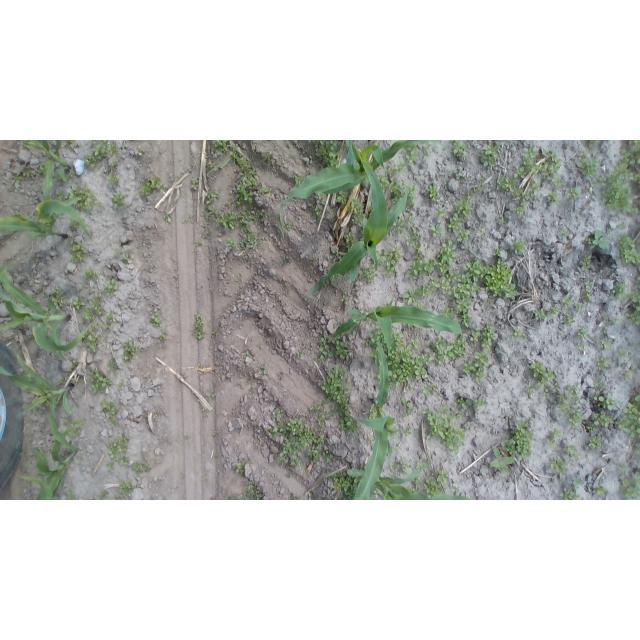Maize: (301, 141, 409, 298), (280, 141, 439, 240), (1, 261, 84, 362), (0, 355, 82, 452), (354, 337, 399, 500), (333, 298, 464, 353), (347, 460, 476, 500), (18, 420, 80, 501), (0, 197, 94, 239), (21, 140, 72, 201), (68, 488, 76, 501)
Weeds: (266, 417, 322, 468), (387, 333, 429, 388), (323, 366, 358, 431), (495, 175, 541, 218), (425, 406, 467, 450), (603, 161, 637, 215), (230, 152, 261, 206), (552, 381, 586, 427), (455, 263, 482, 313), (504, 421, 535, 460), (484, 260, 513, 297), (217, 210, 266, 230), (84, 140, 117, 169), (618, 396, 640, 436), (400, 251, 428, 282), (513, 148, 539, 179), (391, 183, 418, 210), (437, 240, 458, 273), (542, 427, 567, 453), (315, 140, 340, 166), (238, 227, 259, 257), (530, 361, 555, 385), (491, 448, 514, 473), (620, 235, 639, 265), (542, 151, 563, 178), (90, 369, 112, 394), (101, 398, 120, 426), (190, 311, 206, 342), (531, 305, 561, 321), (447, 336, 468, 358), (64, 417, 84, 440), (386, 246, 402, 274), (397, 192, 414, 217), (305, 200, 322, 225), (76, 189, 97, 209), (329, 473, 351, 492), (454, 194, 473, 216), (622, 475, 639, 499), (595, 393, 619, 410), (591, 230, 610, 250), (107, 437, 129, 454), (432, 337, 446, 363), (562, 444, 580, 464), (481, 148, 499, 167), (581, 159, 600, 177), (550, 457, 570, 474), (481, 328, 497, 349), (241, 483, 262, 499), (449, 140, 467, 158), (141, 178, 160, 195), (440, 273, 457, 292), (594, 411, 614, 427), (448, 213, 463, 234), (85, 333, 98, 357), (102, 307, 115, 330), (353, 198, 364, 225), (91, 294, 105, 315), (424, 478, 442, 494), (405, 229, 423, 245), (113, 248, 131, 264), (335, 339, 349, 359), (107, 161, 119, 184), (124, 340, 137, 361), (319, 337, 332, 358), (594, 336, 611, 352), (389, 162, 406, 178), (233, 459, 247, 478), (401, 399, 415, 418), (613, 280, 627, 299), (421, 382, 437, 398), (474, 351, 490, 367), (594, 357, 611, 372), (455, 395, 472, 410), (54, 186, 72, 200), (624, 148, 638, 166), (402, 289, 418, 304), (428, 183, 440, 203), (363, 266, 377, 283), (367, 332, 384, 346), (344, 231, 356, 250), (201, 207, 216, 222), (524, 383, 540, 397), (435, 467, 449, 483), (457, 228, 471, 244), (393, 219, 408, 233), (458, 315, 473, 329), (561, 489, 580, 500), (120, 481, 133, 497), (293, 173, 306, 189), (440, 306, 456, 319), (474, 367, 486, 384), (213, 140, 230, 152), (561, 312, 576, 325), (430, 225, 446, 237), (72, 243, 84, 259), (400, 459, 413, 473), (506, 283, 519, 297), (150, 311, 163, 325), (463, 360, 476, 374), (474, 394, 486, 409), (66, 219, 78, 234), (407, 148, 419, 163), (430, 276, 441, 292), (579, 324, 589, 341), (629, 308, 639, 325), (132, 462, 149, 472), (614, 346, 628, 358), (94, 488, 108, 500), (206, 192, 220, 204), (419, 285, 433, 297), (513, 240, 525, 254), (105, 279, 117, 293), (263, 151, 274, 166), (161, 210, 172, 225), (104, 462, 116, 475), (332, 247, 343, 261), (443, 486, 460, 495), (325, 449, 334, 465), (582, 253, 591, 269), (72, 298, 84, 310), (377, 248, 386, 264), (353, 210, 362, 226), (621, 370, 634, 381), (52, 297, 65, 308), (84, 271, 97, 282), (112, 194, 125, 205), (226, 238, 237, 251), (345, 486, 355, 500), (106, 357, 116, 371), (435, 207, 445, 221), (310, 402, 321, 414), (22, 168, 34, 179), (416, 460, 428, 471), (474, 180, 485, 192), (469, 331, 480, 343), (511, 329, 523, 340), (589, 437, 602, 447), (337, 191, 347, 204), (366, 404, 374, 420), (115, 457, 129, 466), (630, 291, 639, 305), (569, 188, 580, 199), (492, 246, 503, 257), (380, 176, 392, 186), (191, 177, 199, 192), (403, 423, 412, 436), (52, 285, 60, 299), (370, 351, 378, 365), (295, 350, 305, 361), (245, 349, 255, 360), (582, 291, 592, 302), (14, 173, 23, 185), (618, 465, 628, 475), (618, 221, 628, 231), (561, 297, 571, 307), (274, 407, 283, 418), (67, 141, 78, 150), (586, 422, 595, 433), (549, 193, 558, 204), (597, 487, 608, 496), (259, 188, 270, 197), (201, 228, 210, 239), (576, 302, 585, 313), (424, 145, 431, 159), (341, 293, 349, 305), (324, 495, 343, 500), (572, 478, 581, 488), (331, 274, 341, 283), (316, 191, 325, 201), (476, 227, 485, 237), (497, 218, 507, 227), (585, 280, 595, 289), (614, 315, 623, 325), (578, 342, 587, 352), (586, 140, 597, 148), (158, 331, 166, 342), (70, 359, 78, 370), (635, 441, 640, 458), (554, 180, 563, 189), (593, 377, 601, 387), (210, 329, 218, 339), (192, 240, 202, 248), (606, 227, 614, 237), (599, 327, 609, 335), (543, 388, 549, 401), (577, 151, 588, 158), (481, 299, 488, 310), (206, 160, 215, 168), (138, 148, 147, 156), (309, 492, 317, 501), (258, 366, 266, 375), (57, 378, 65, 387), (560, 229, 568, 238), (496, 318, 505, 326), (309, 256, 319, 263), (235, 273, 242, 283), (627, 139, 640, 144), (454, 173, 462, 181), (154, 408, 161, 417), (391, 462, 397, 472), (585, 237, 592, 245), (365, 438, 372, 445), (389, 446, 396, 453), (117, 382, 123, 390), (309, 266, 315, 273), (78, 457, 85, 463), (205, 391, 211, 398), (351, 477, 358, 483), (289, 494, 296, 500), (112, 494, 119, 500), (68, 171, 74, 178), (213, 431, 219, 437), (186, 372, 194, 376), (603, 316, 609, 321), (285, 259, 289, 266), (407, 389, 413, 393), (286, 228, 292, 231)
